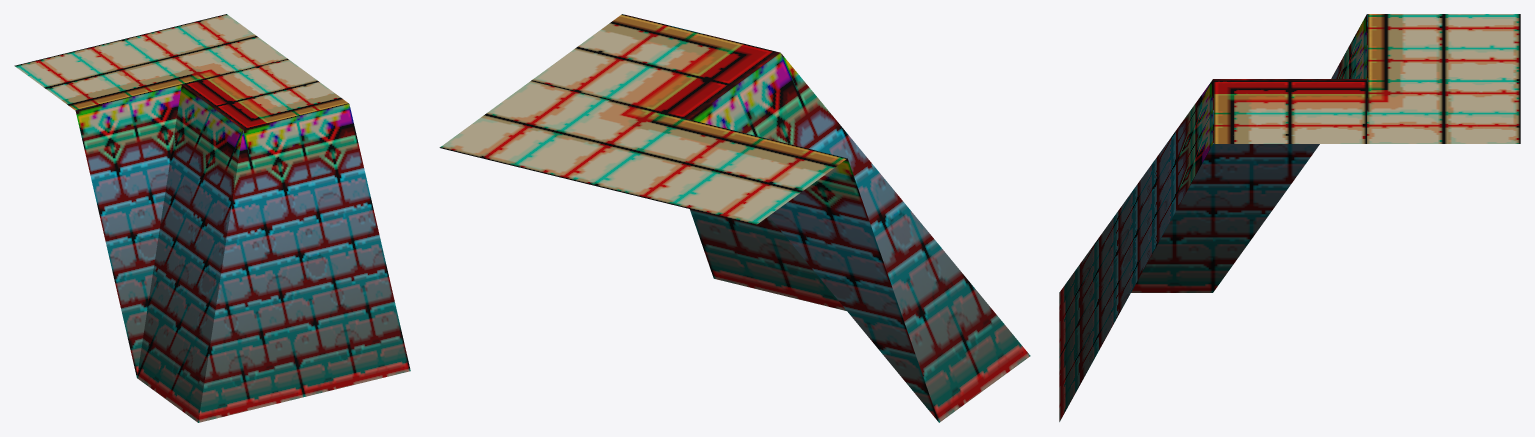
File: arch_cathedral_wall_cornerOutIn_left 1.FBX
3 views of the same model, side by side, from view 1: azimuth 30°, elevation 25°; view 2: azimuth 150°, elevation 25°; view 3: azimuth 270°, elevation 25° (orthographic). The views are drawn at different scales.
Visible parts, largest first — view 1: arch_cathedral_wall_cornerOutIn_left; view 2: arch_cathedral_wall_cornerOutIn_left; view 3: arch_cathedral_wall_cornerOutIn_left.
Part boxes in pixels (<box>): arch_cathedral_wall_cornerOutIn_left: <box>14,14,410,422</box>; arch_cathedral_wall_cornerOutIn_left: <box>439,14,1030,422</box>; arch_cathedral_wall_cornerOutIn_left: <box>1059,14,1520,421</box>.
Size of the model in its own units: 4 by 4 by 6.
